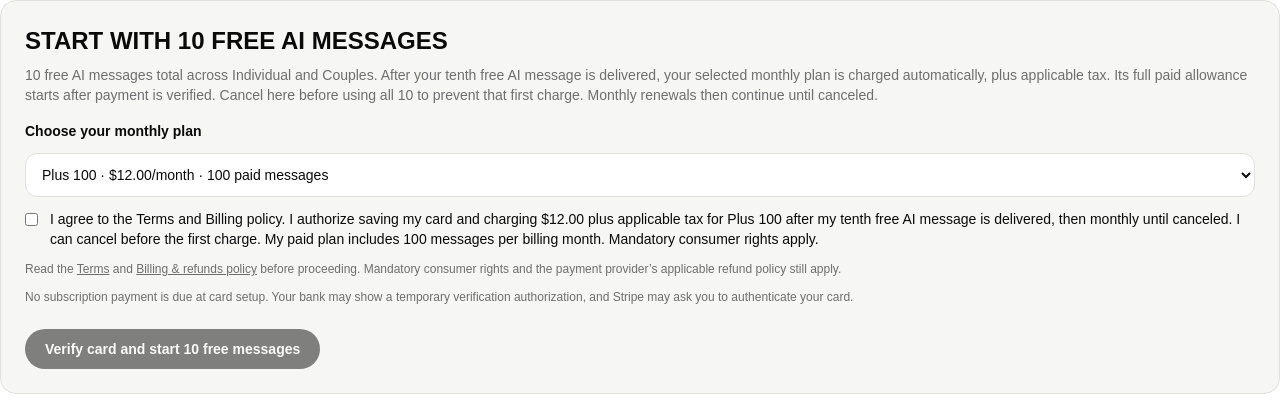
Scenario: late setup responses cannot navigate, read old results or update the next signed-in account
This screenshot has width=1280, height=411.
Click the checkbox at (32, 220), box left=25, top=213, right=38, bottom=226
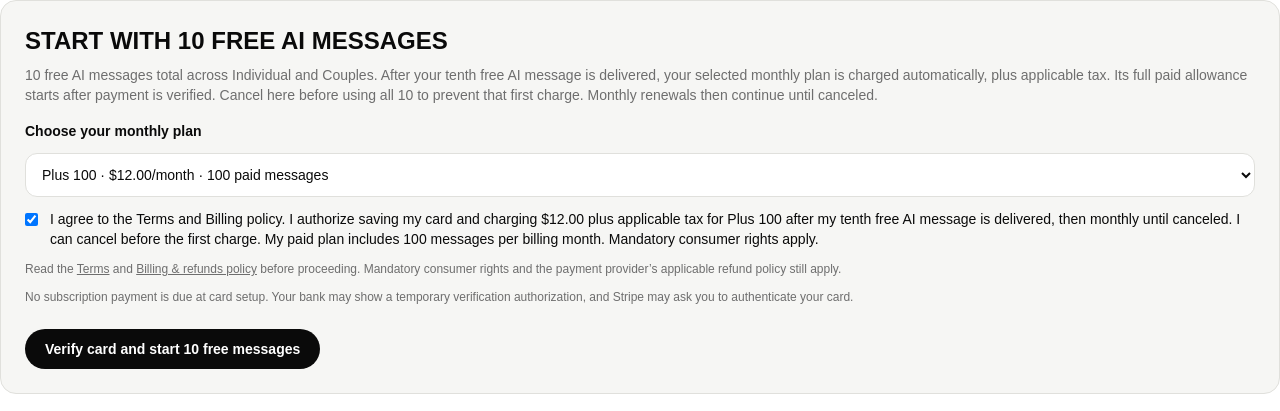
Click the button "Verify card and start 10 free messages" at (173, 349), box left=25, top=329, right=320, bottom=369
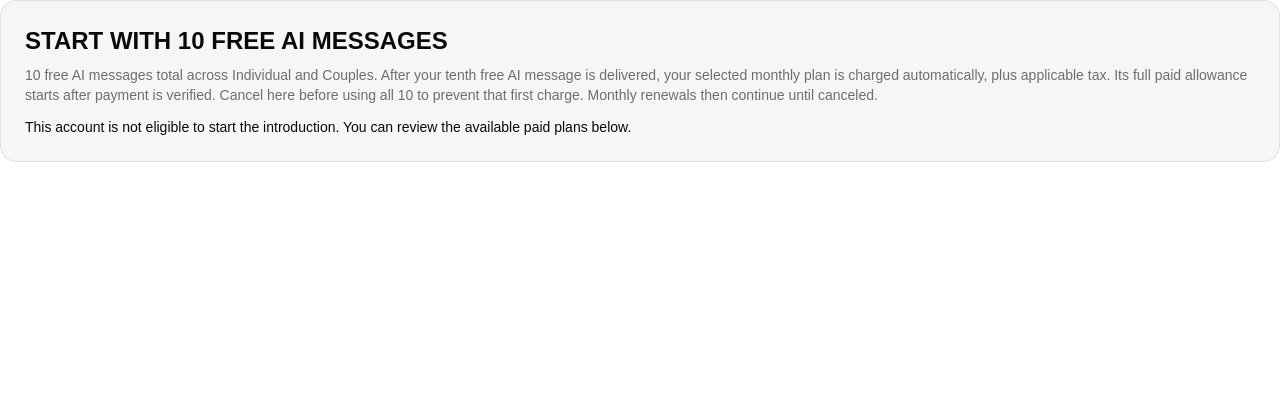
Now the text "not eligible" is shown, box left=25, top=119, right=631, bottom=135
